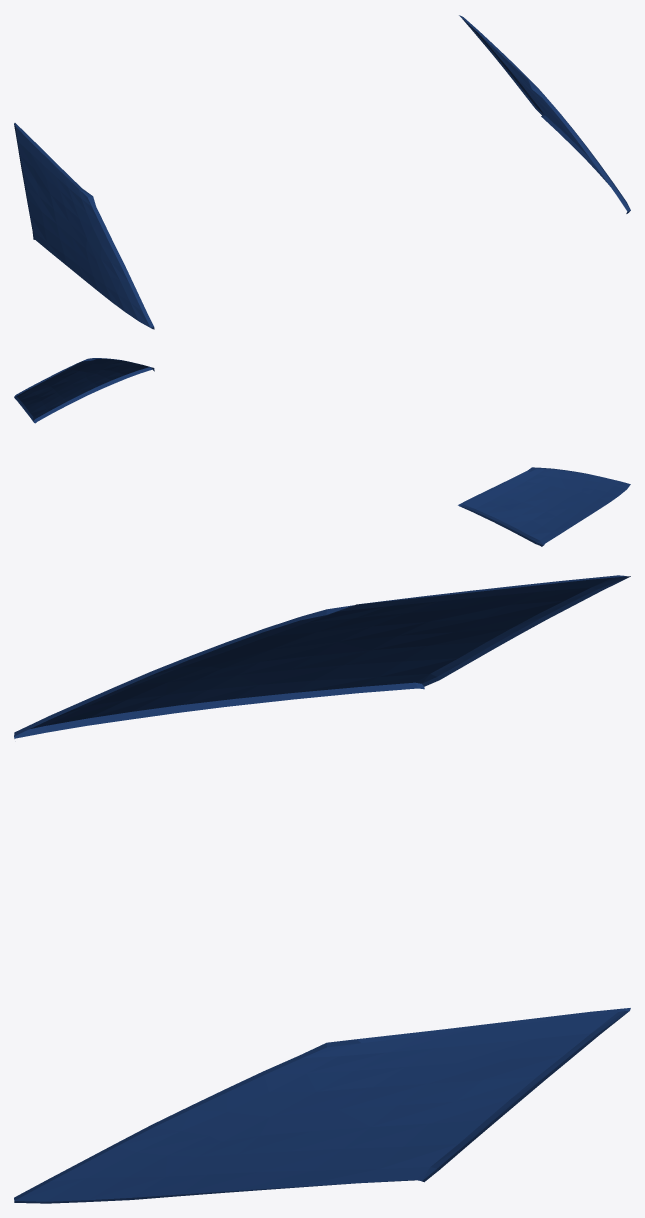
Rendered from sticker.glb.
3 views of the same model, one above another, from view 1: azimuth 30°, elevation 25°; view 2: azimuth 150°, elevation 25°; view 3: azimuth 270°, elevation 25° (orthographic). The views are drawn at different scales.
Visible parts, largest first — view 1: sticker; view 2: sticker; view 3: sticker.
Part boxes in pixels (bbox=[...]): sticker: bbox=[14, 15, 630, 329]; sticker: bbox=[14, 358, 630, 546]; sticker: bbox=[14, 575, 630, 1203].
Size of the model in its own units: 1.29 by 0.22 by 0.6785.
